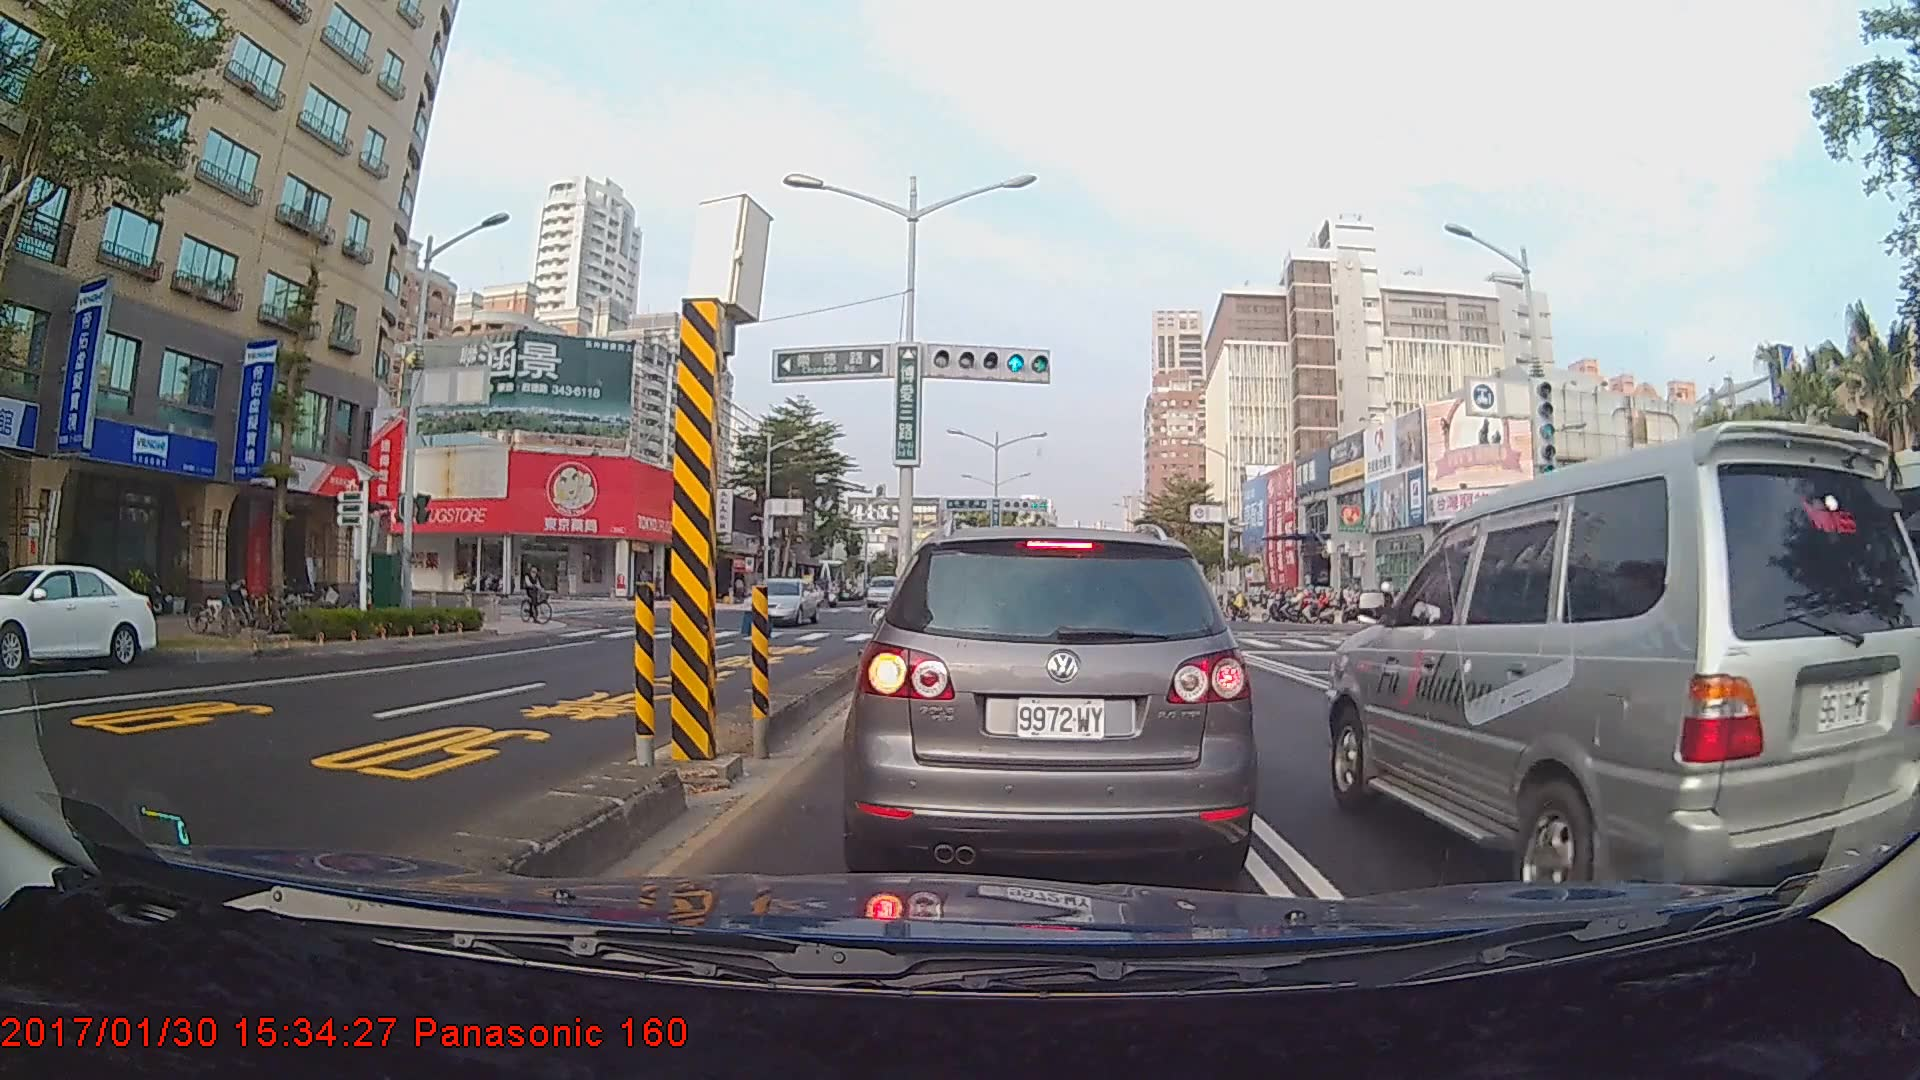rider: (518, 559, 561, 629)
vehicle: (1321, 421, 1920, 883), (854, 521, 1248, 878), (0, 561, 157, 671), (741, 576, 819, 626), (863, 573, 902, 606)
